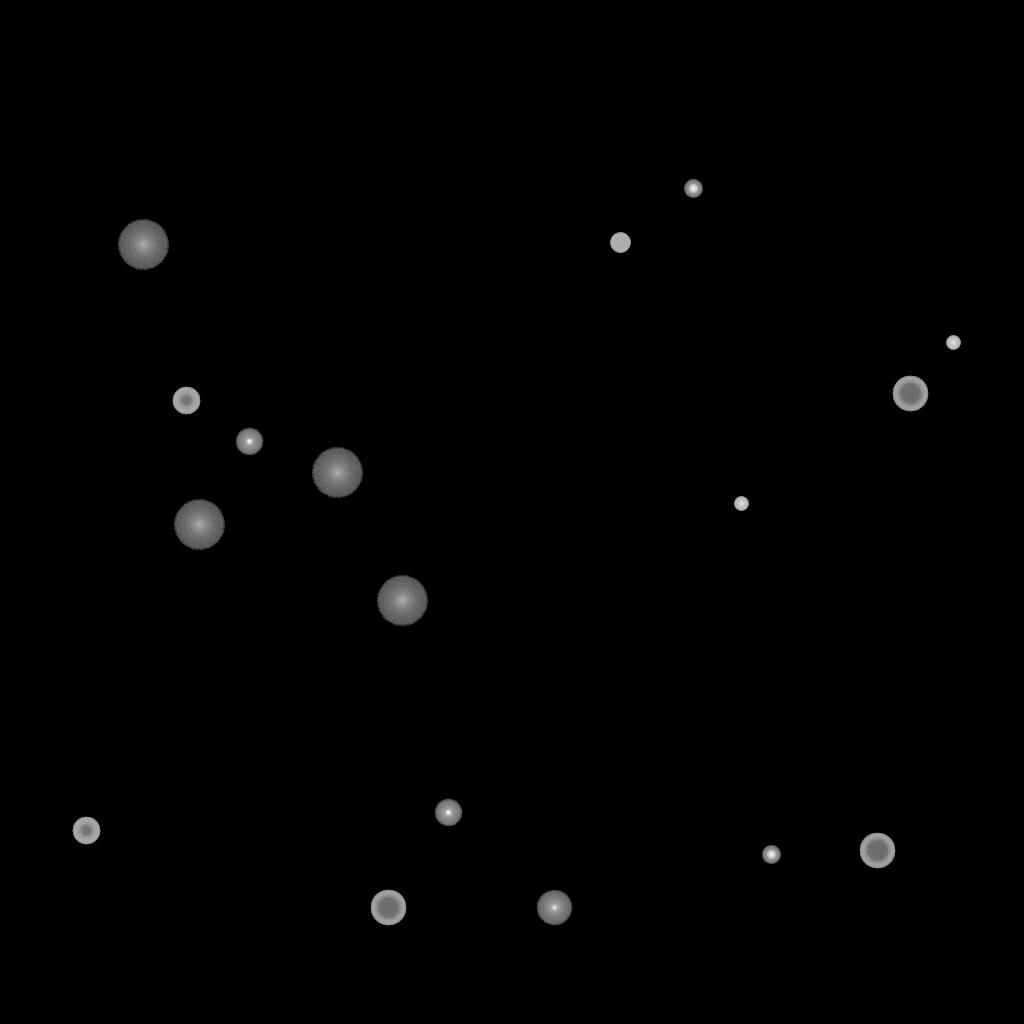depth:-10: (235, 428, 263, 456), (434, 799, 462, 827)
depth:-20: (762, 846, 780, 864), (684, 180, 702, 198)
depth:-30: (946, 336, 960, 350), (734, 497, 748, 511)
depth:-40: (610, 233, 630, 253)
depth:-50: (172, 387, 200, 415), (72, 817, 100, 845)
depth:-60: (859, 833, 895, 869), (370, 890, 406, 926), (892, 376, 928, 412)
depth:0: (536, 890, 572, 926)
depth:20: (376, 576, 428, 626), (117, 220, 169, 270), (311, 448, 363, 498), (173, 500, 225, 550)
